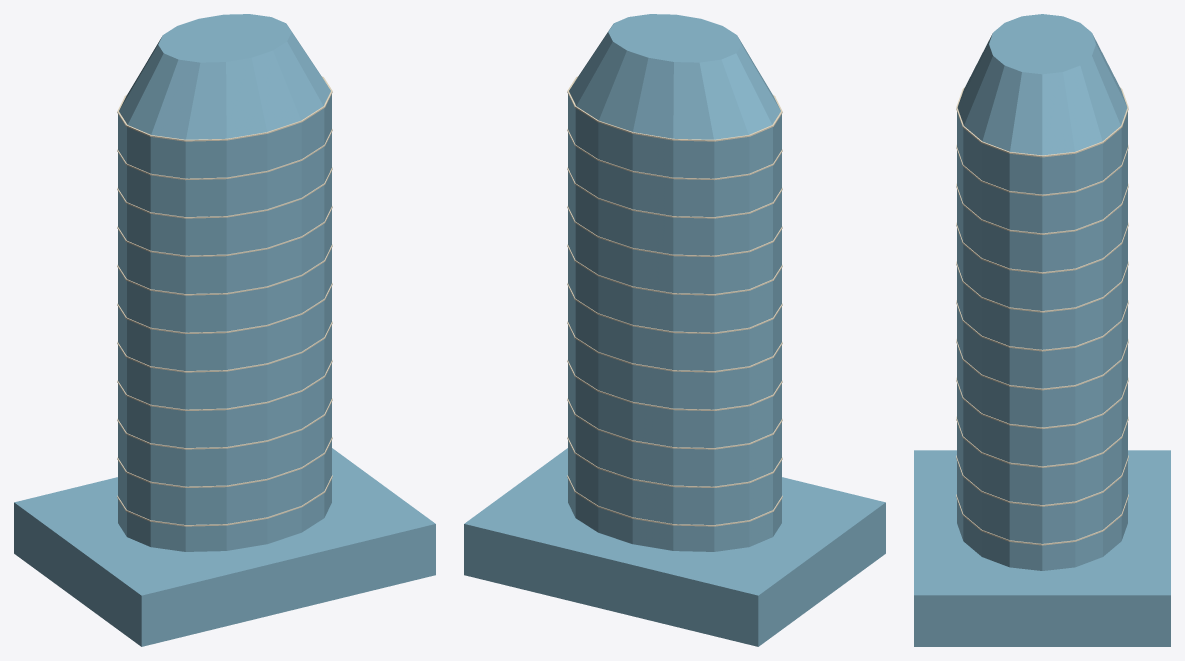
File: modern-5-lod1.glb
3 views of the same model, side by side, from view 1: azimuth 30°, elevation 25°; view 2: azimuth 150°, elevation 25°; view 3: azimuth 270°, elevation 25° (orthographic).
Visible parts, largest first — view 1: modern-5_architecture; view 2: modern-5_architecture; view 3: modern-5_architecture.
Part boxes in pixels (bbox=[...]): modern-5_architecture: bbox=[14, 14, 435, 646]; modern-5_architecture: bbox=[464, 14, 885, 646]; modern-5_architecture: bbox=[914, 14, 1170, 646].
Bounding box in the file's own units: 24 × 41 × 18.
